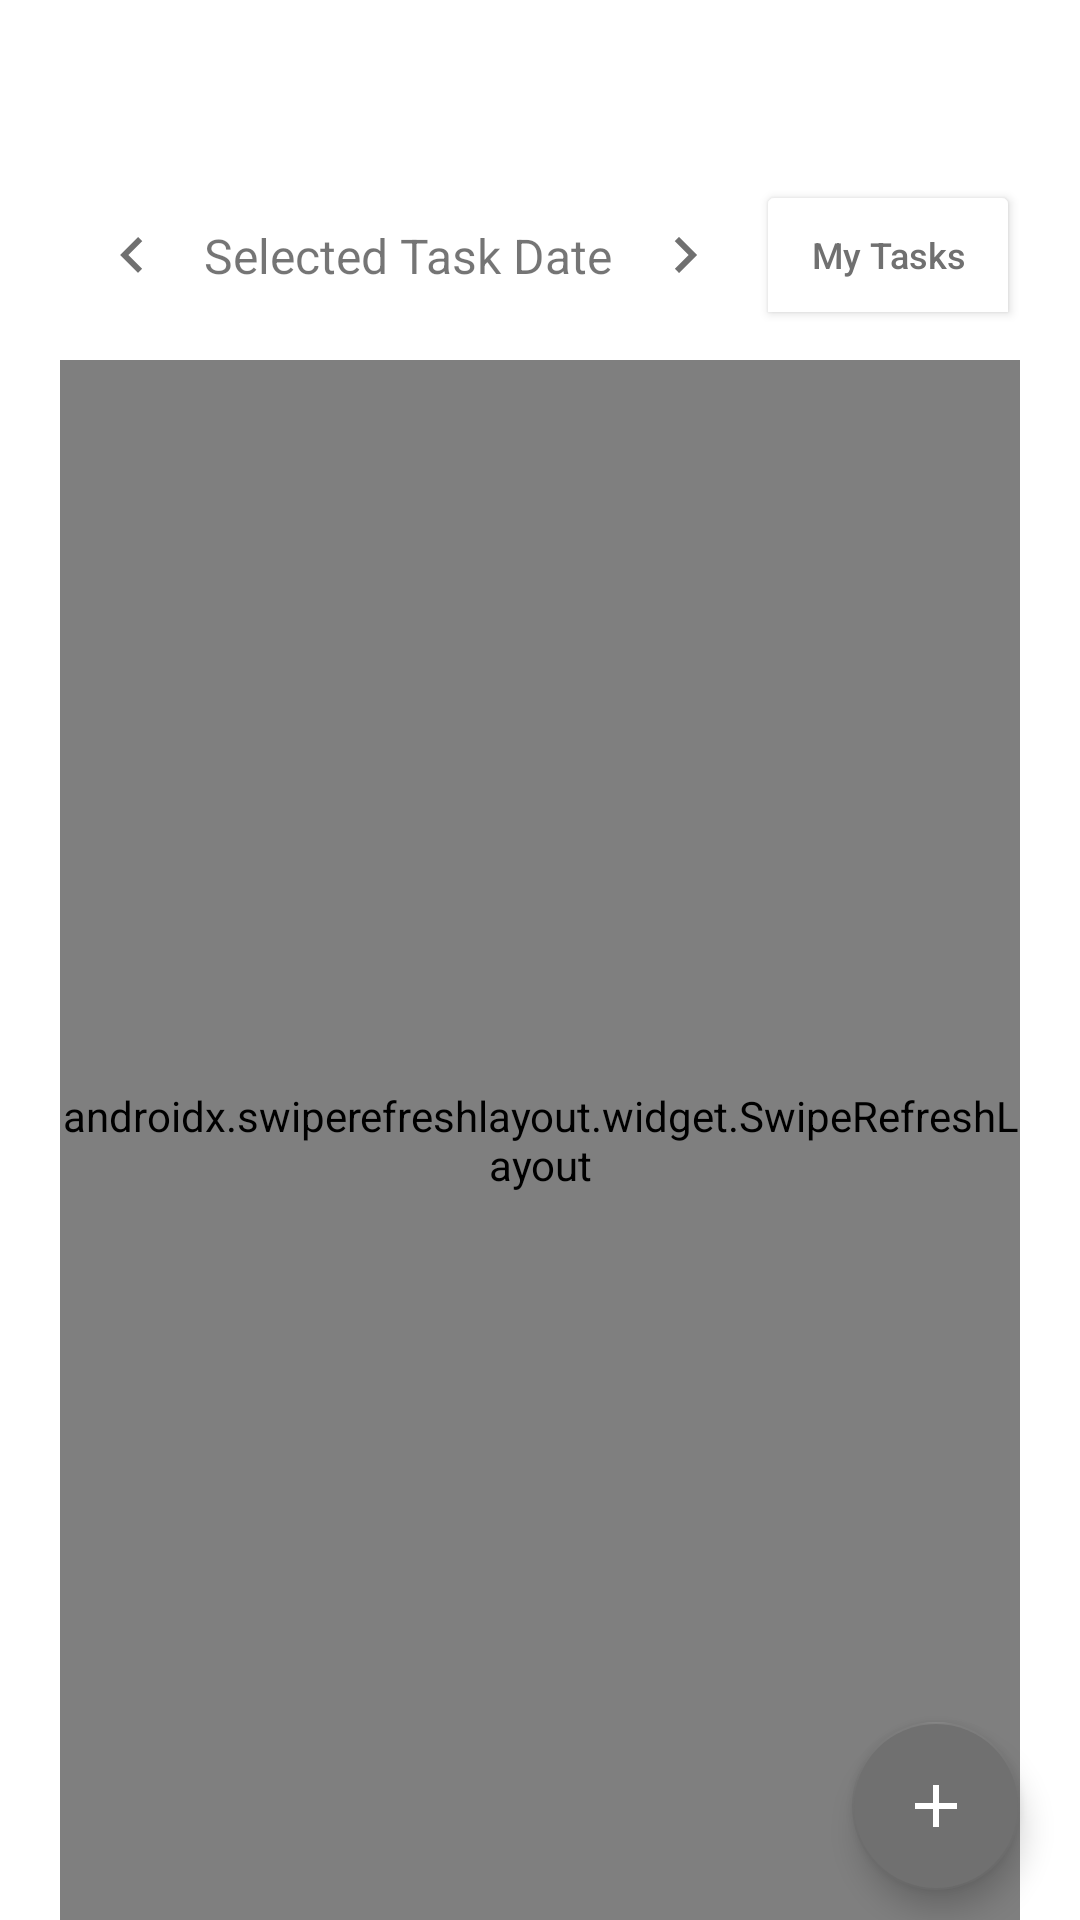

Named icons in this screenshot (1080×1920) and their bounding boxes, {"left": x1, "top": y1, "right": x2, "bottom": y2}:
Create Task: {"left": 852, "top": 1722, "right": 1020, "bottom": 1890}
Next Day: {"left": 675, "top": 237, "right": 697, "bottom": 273}
Previous Day: {"left": 120, "top": 237, "right": 142, "bottom": 273}
